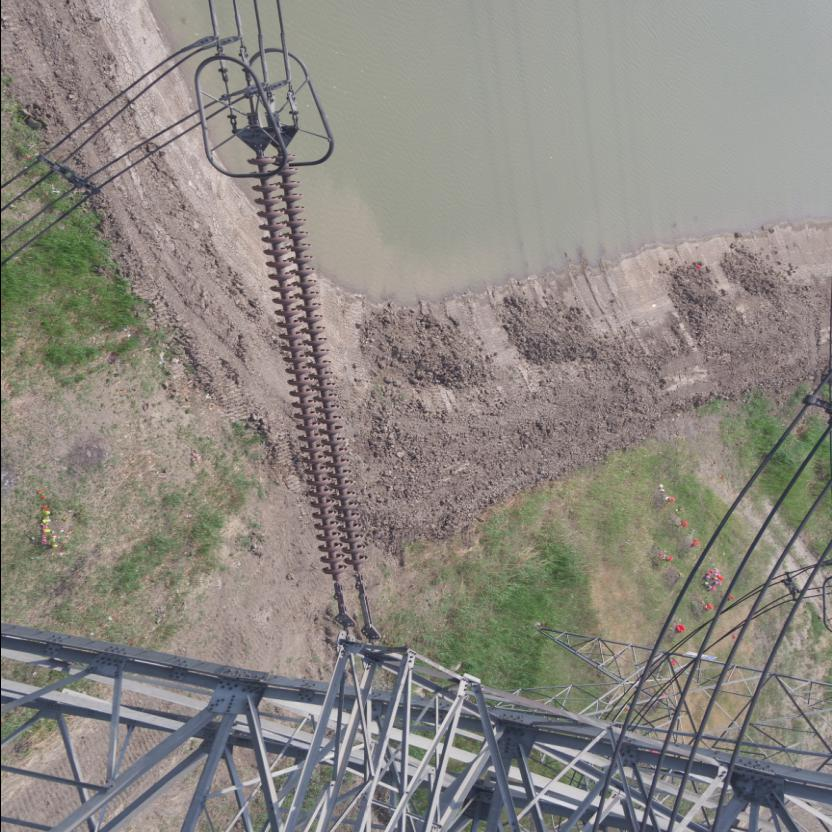insulator: (246, 145, 370, 594)
